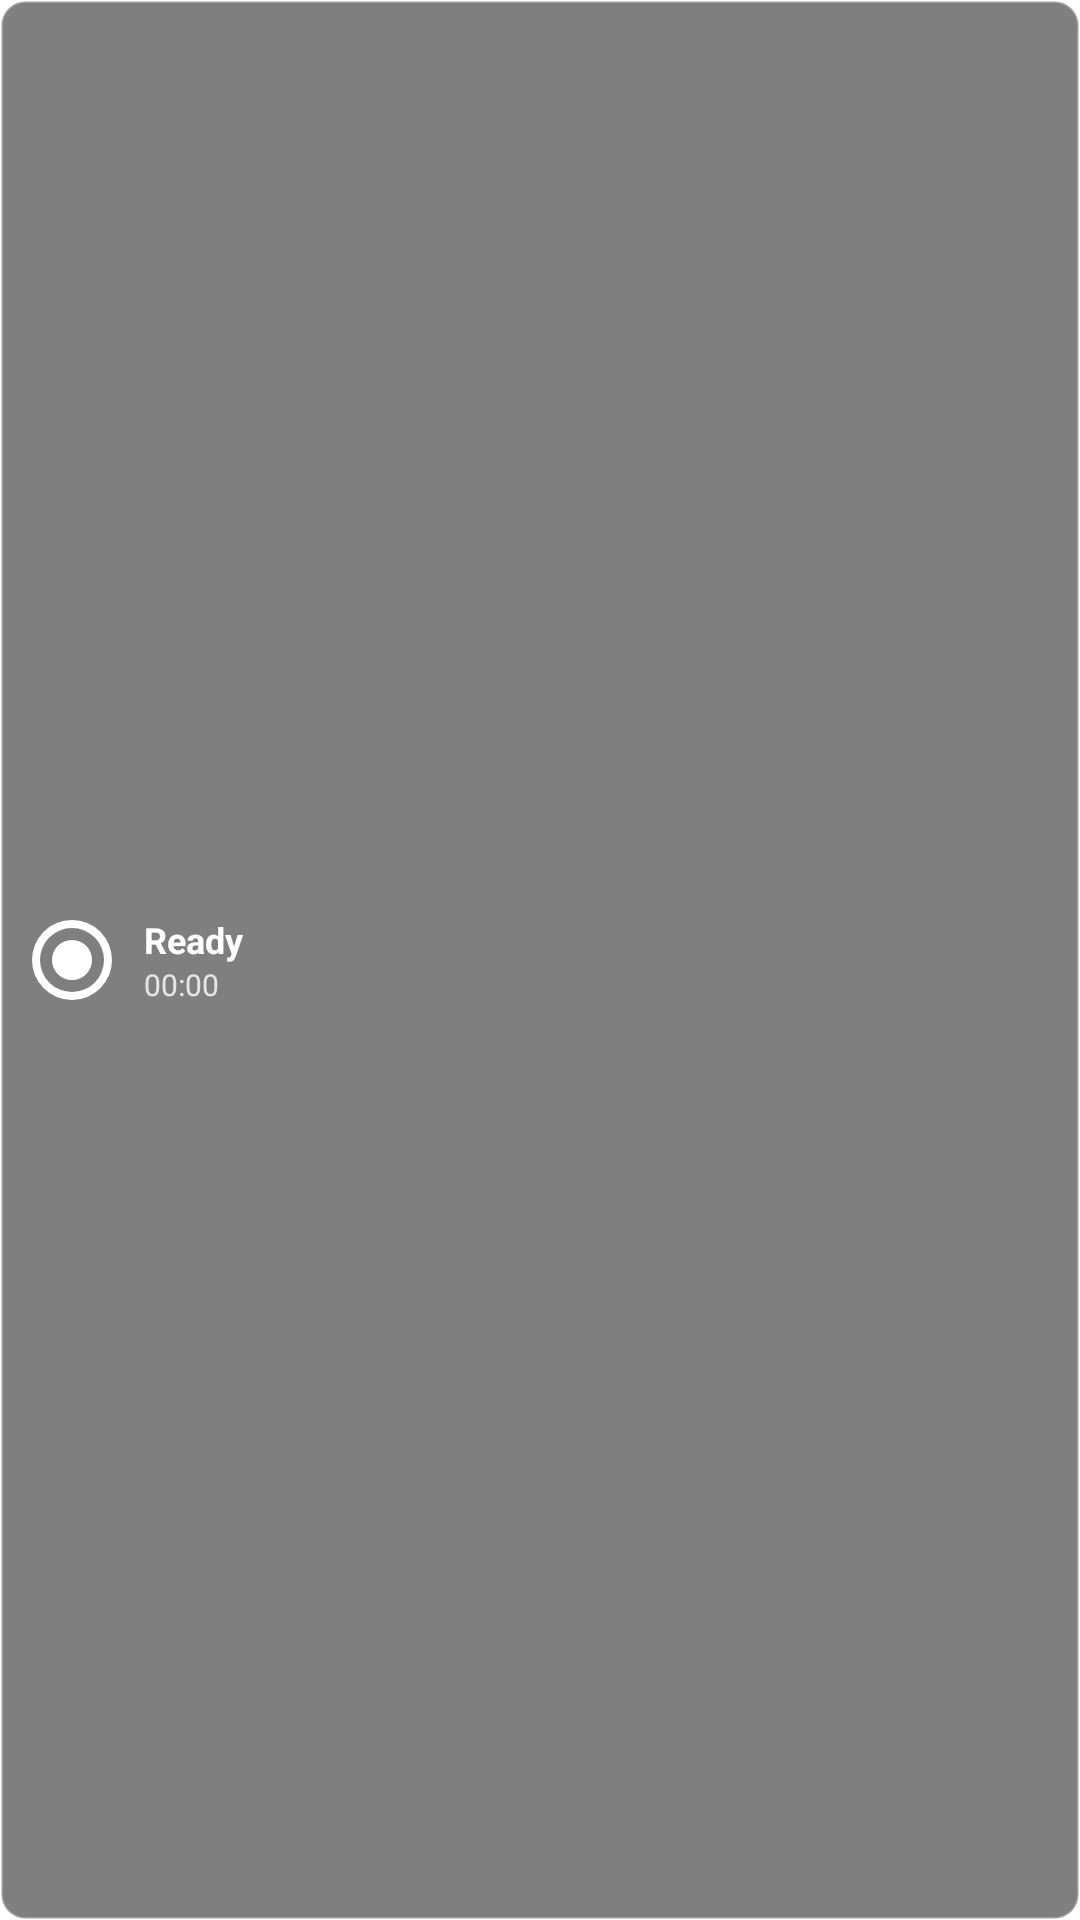

Locate icon controls on the screen. Image size 1080px x 1920px, boxes as (x1, y1, x2, y2).
recording tile: (32, 920, 112, 1000)
